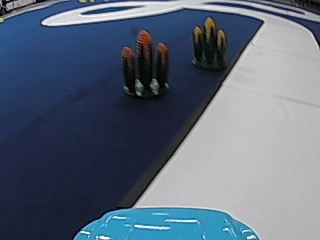corn: (120, 31, 170, 98), (191, 14, 228, 70)
